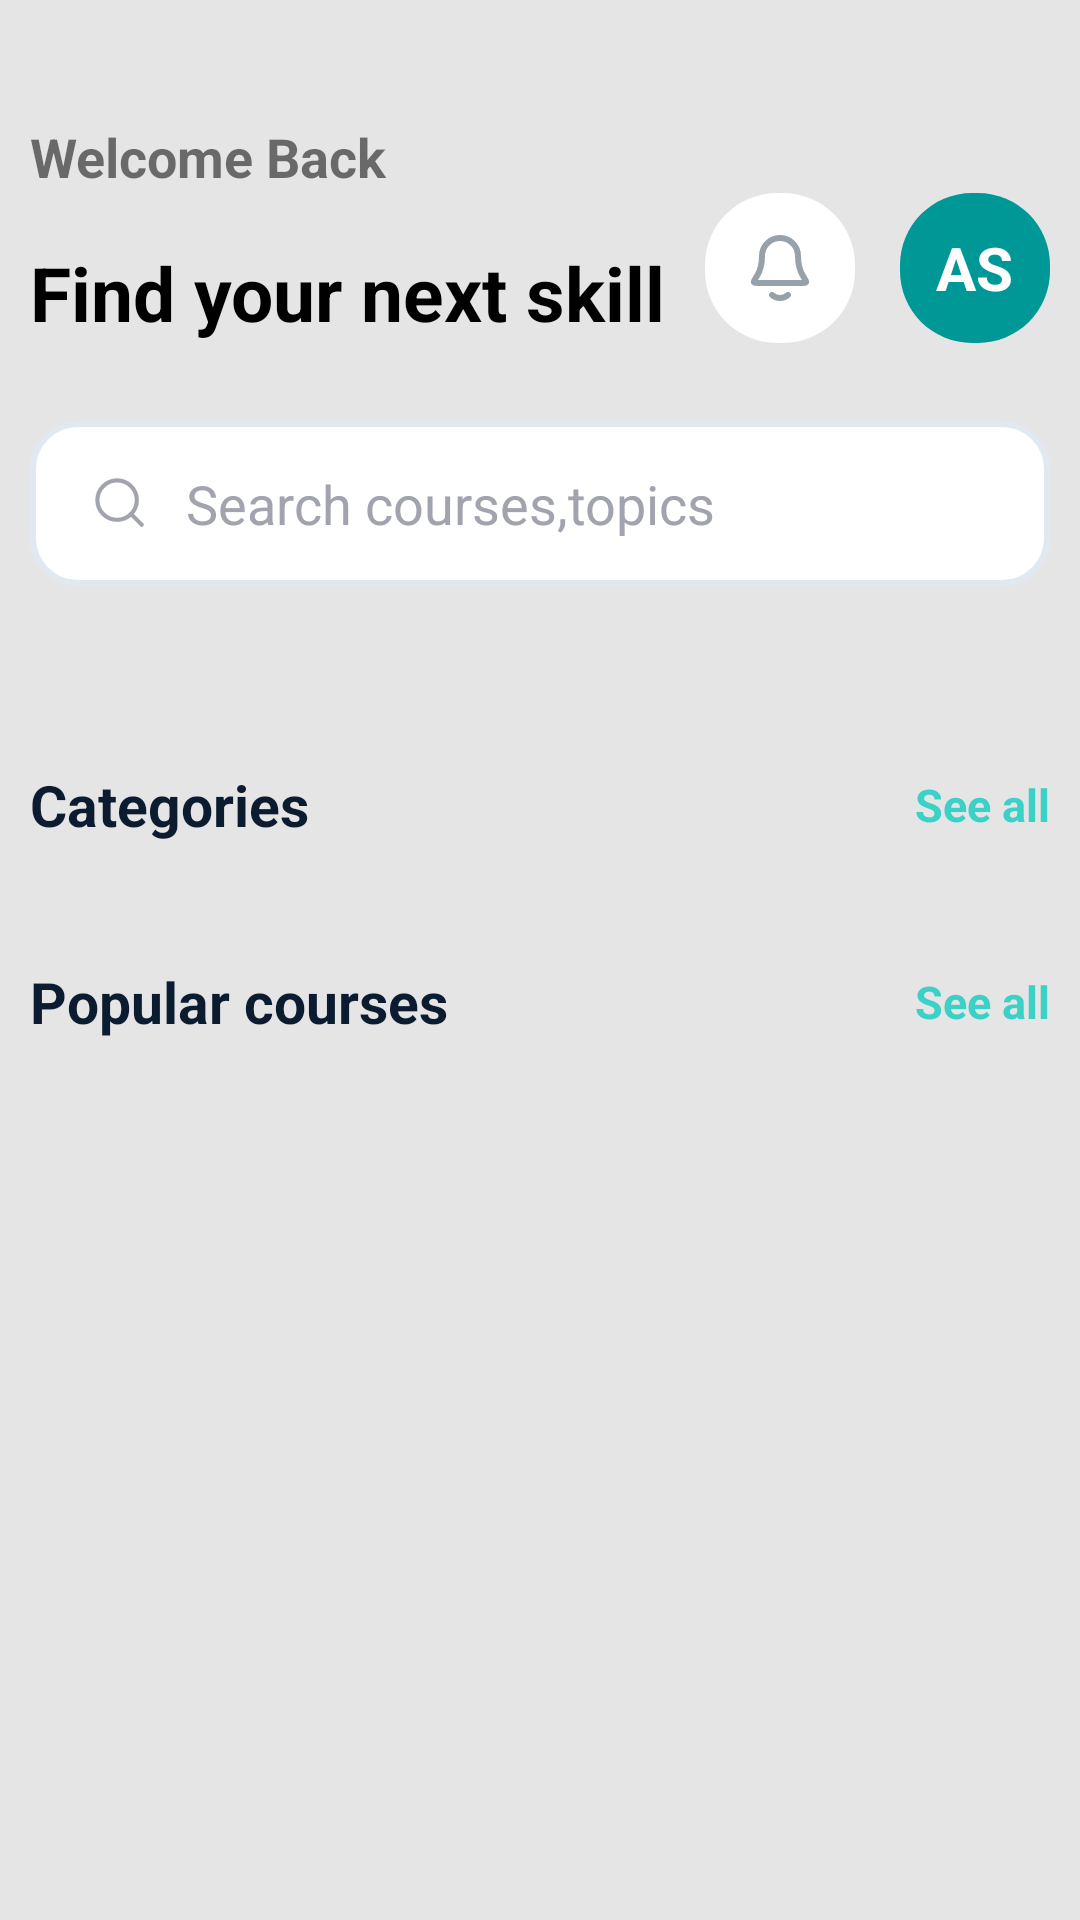

Icons on this 1080px x 1920px Android screen, each with its box as (x1, y1, x2, y2):
bell: (751, 235, 809, 301)
